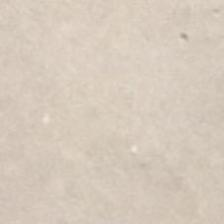Non_Crack: (21, 22, 221, 166)
